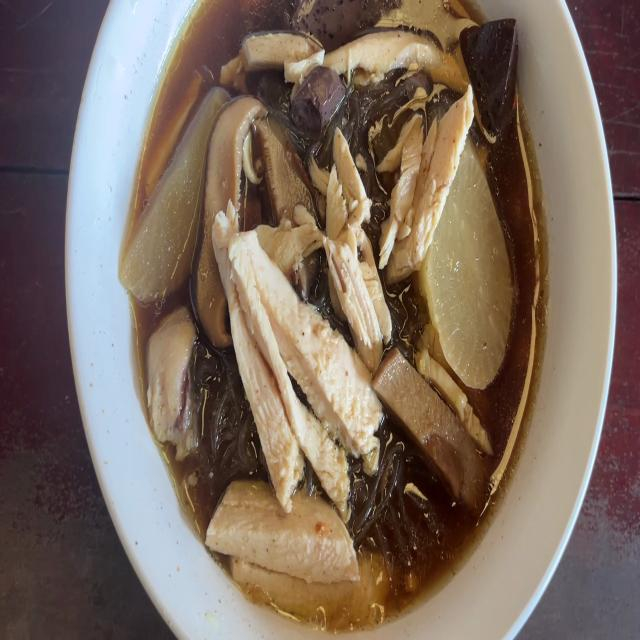boiled_chicken_blood_jelly: (470, 14, 520, 117), (286, 70, 340, 134), (295, 0, 391, 30)
chicken_shredded: (212, 211, 372, 503), (206, 478, 384, 629), (386, 97, 473, 264), (234, 22, 459, 86), (323, 136, 386, 362), (144, 309, 197, 452)
daikon_radish: (124, 82, 201, 300), (442, 186, 506, 380)
noodle: (133, 0, 550, 614)
